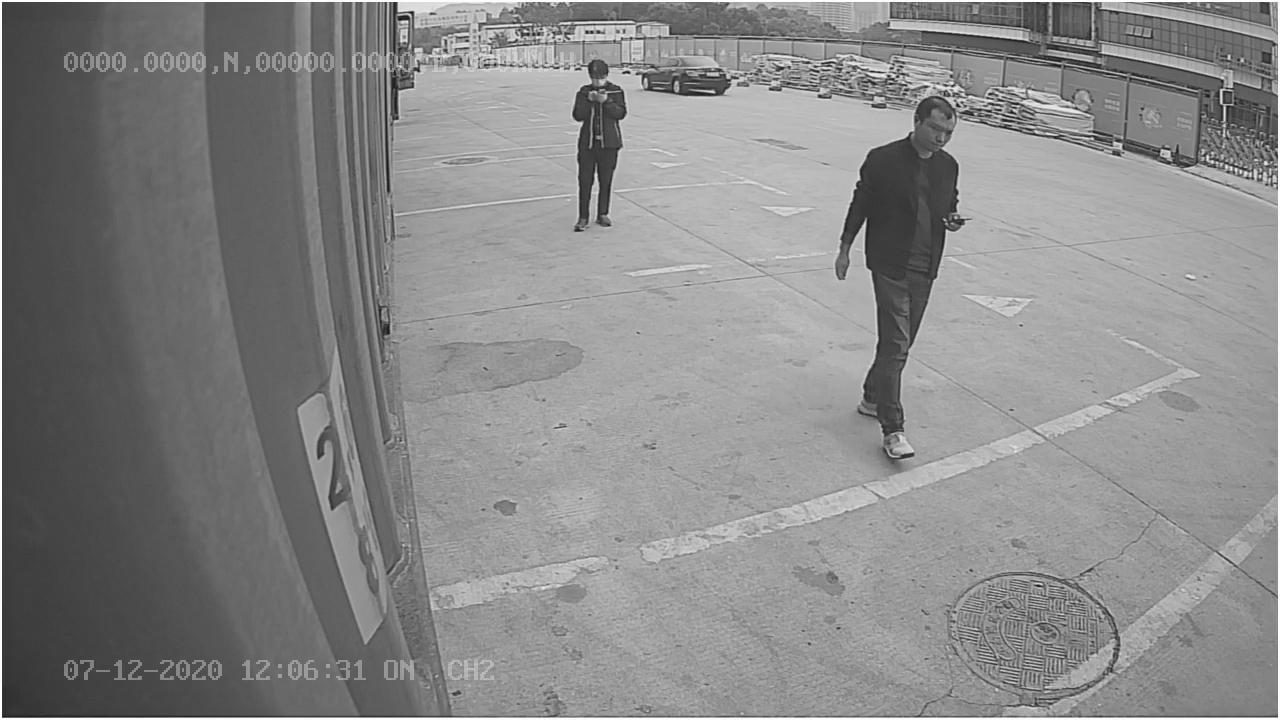person: (830, 89, 976, 464)
